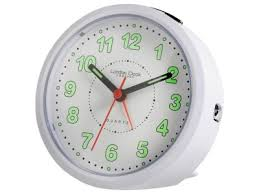alarm_clock: (33, 3, 225, 190), (37, 3, 225, 190)
